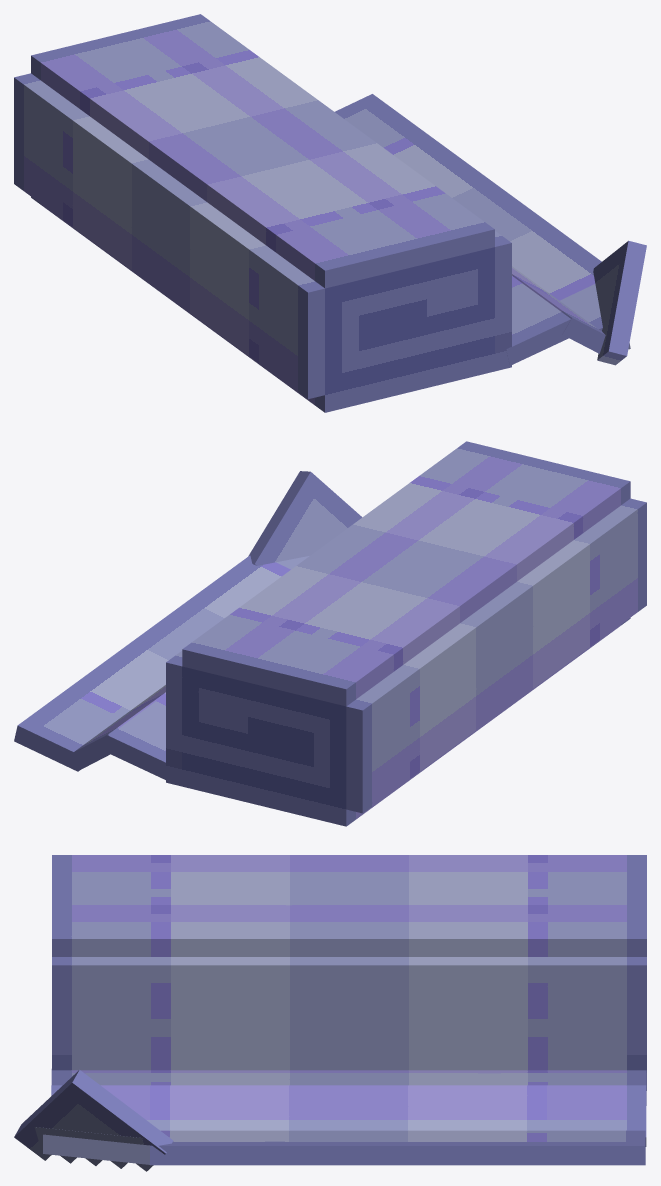
The model's file is icon_smoothfabric.gltf.
The picture shows the model from 3 angles, top to bottom: view 1: azimuth 30°, elevation 25°; view 2: azimuth 150°, elevation 25°; view 3: azimuth 270°, elevation 25°; orthographic projection. The views are drawn at different scales.
Visible parts, largest first — view 1: fabric-Local, side-03$$(1)-Local, curly$$corner 02-Local, side-01-Local, side-02$$(1)-Local; view 2: fabric-Local, side-03$$(1)-Local, curly$$corner 02-Local, side-01-Local, side-02$$(1)-Local; view 3: fabric-Local, side-02$$(1)-Local, side-03$$(1)-Local, side-01-Local, curly$$corner 02-Local, side-corner-Local, curly$$corner 01-Local.
Part boxes in pixels (box(x1,y1,x2,y2)): fabric-Local: box(14, 14, 511, 412); side-03$$(1)-Local: box(335, 94, 602, 330); curly$$corner 02-Local: box(593, 240, 646, 365); side-01-Local: box(506, 276, 570, 365); side-02$$(1)-Local: box(512, 266, 605, 353); fabric-Local: box(166, 441, 646, 826); side-03$$(1)-Local: box(14, 555, 309, 771); curly$$corner 02-Local: box(248, 471, 362, 565); side-01-Local: box(104, 694, 165, 779); side-02$$(1)-Local: box(68, 685, 165, 770); fabric-Local: box(52, 855, 646, 1090); side-02$$(1)-Local: box(51, 1085, 646, 1146); side-03$$(1)-Local: box(150, 1130, 645, 1165); side-01-Local: box(51, 1069, 646, 1105); curly$$corner 02-Local: box(14, 1070, 173, 1171); side-corner-Local: box(43, 1134, 149, 1164); curly$$corner 01-Local: box(34, 1127, 143, 1144).
Bounding box in the file's own units: 21.3 × 9.13 × 31.91.
Materials: 7 (7 with a texture image).
